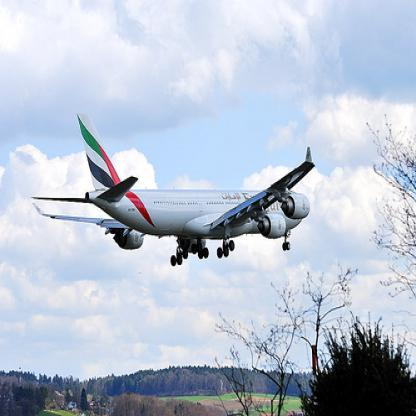aeroplane: (31, 112, 315, 266)
